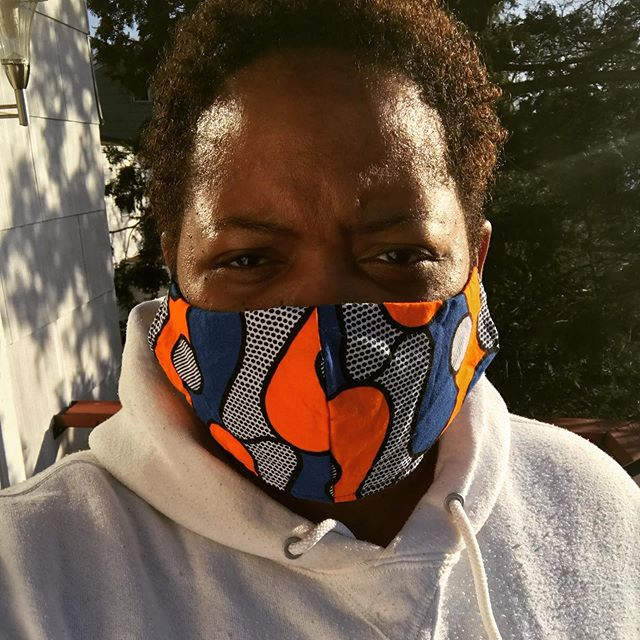homemade: (153, 279, 505, 492)
